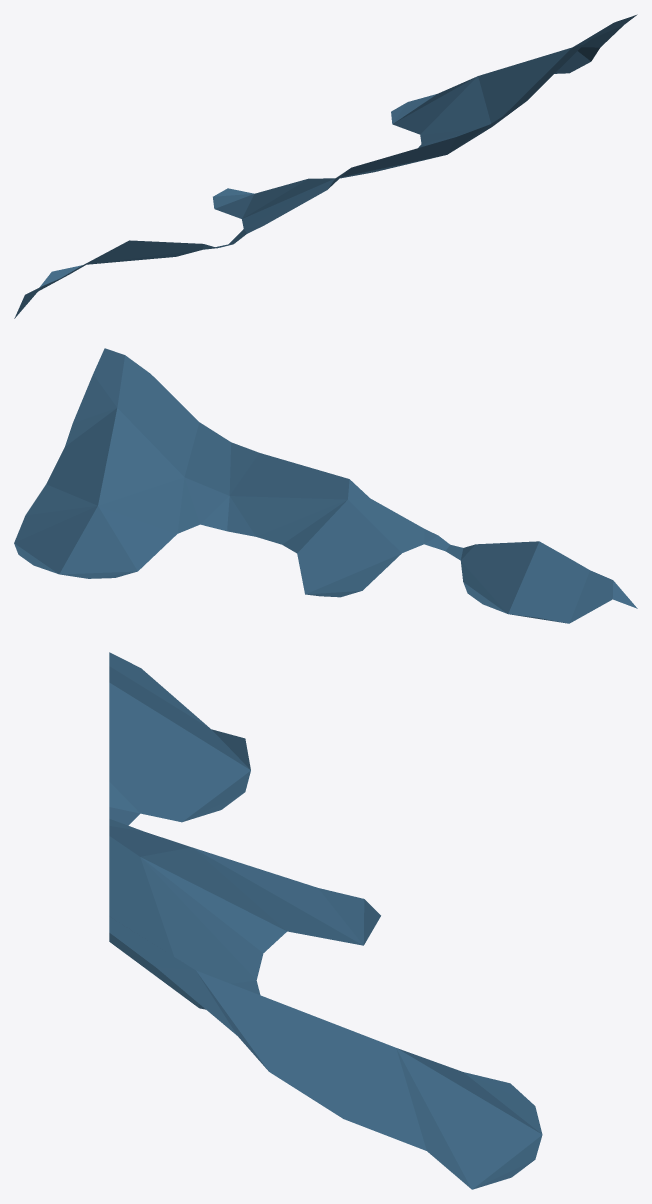
File: newsho-1.glb
3 renders of one model, top to bottom at view 1: azimuth 30°, elevation 25°; view 2: azimuth 150°, elevation 25°; view 3: azimuth 270°, elevation 25°, orthographic. The views are drawn at different scales.
Parts seen in each view (by area): view 1: newsho-1; view 2: newsho-1; view 3: newsho-1.
Boxes of the visible parts, x1,y1,x2,y2 form: newsho-1: (14, 14, 637, 318); newsho-1: (14, 348, 637, 623); newsho-1: (109, 652, 542, 1189).
Bounding box in the file's own units: 0.7078 × 0.1743 × 0.2489.
